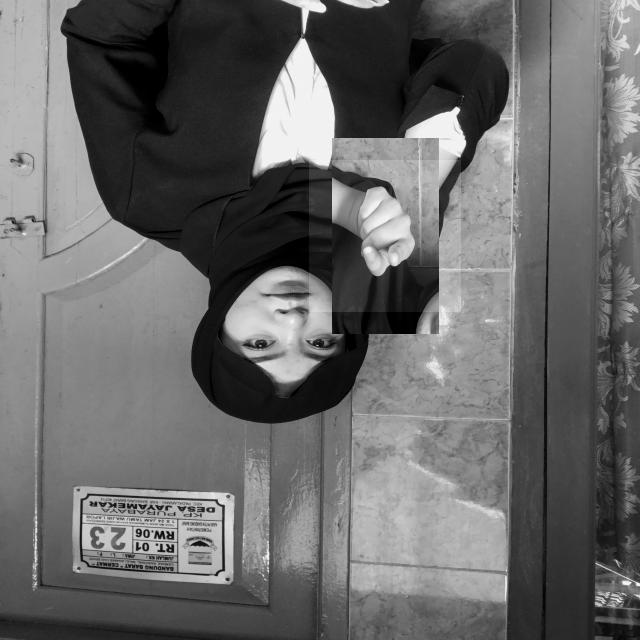kamu: (309, 160, 461, 312)
